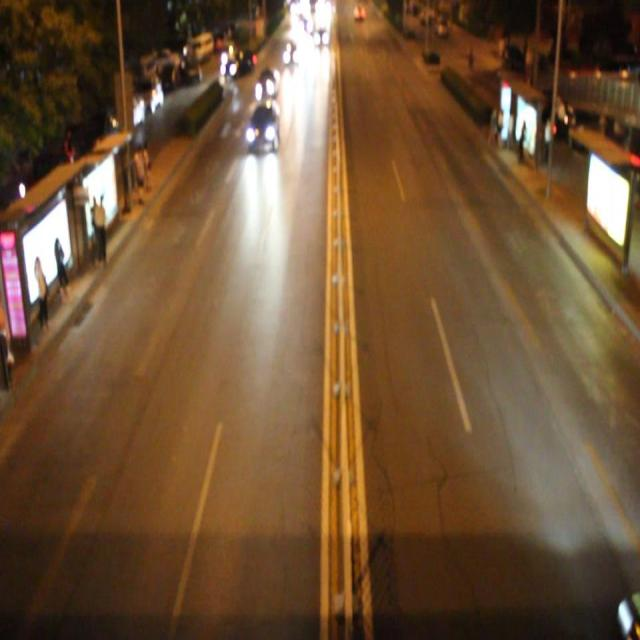car: (246, 100, 281, 151), (255, 65, 280, 102)
